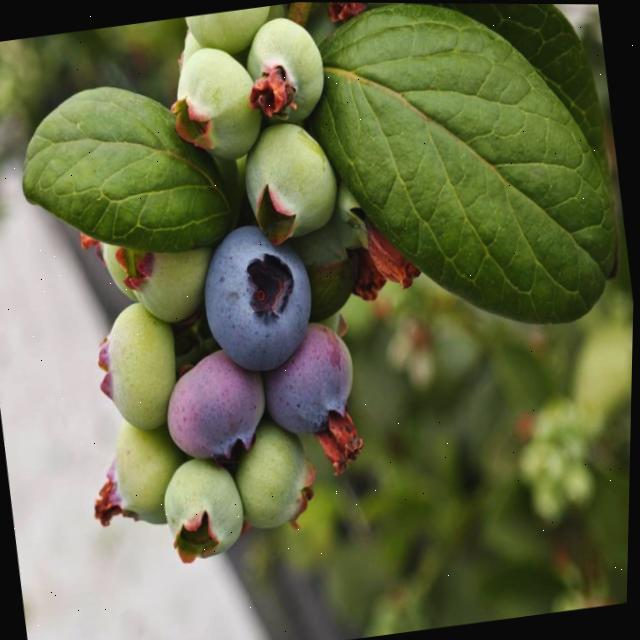RipeBlueBerry: (200, 220, 323, 373)
Semi-RipeBlueBerry: (161, 347, 277, 473), (257, 319, 364, 441)
UnripeBlueBerry: (238, 115, 346, 251), (165, 38, 270, 170), (92, 296, 187, 440), (229, 417, 326, 537), (241, 9, 334, 130), (161, 452, 256, 567), (107, 418, 191, 533)
